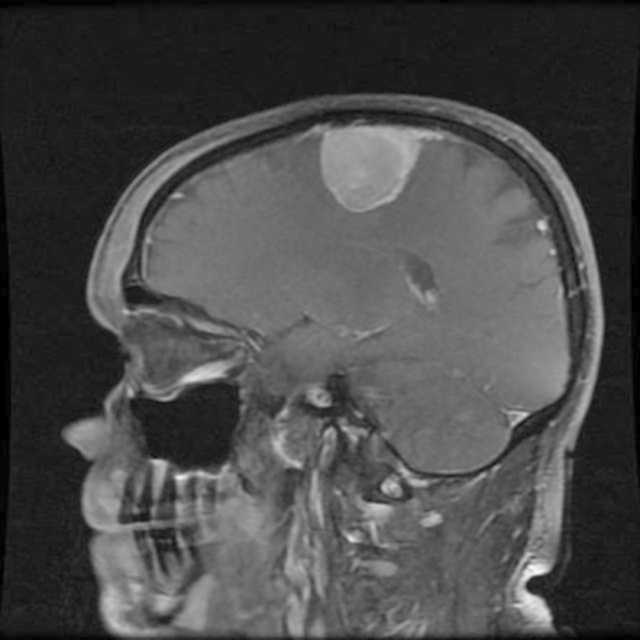meningioma tumor: (305, 114, 446, 223)
